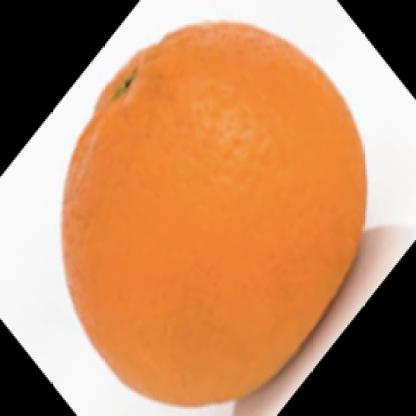fresh: (63, 26, 367, 402)
